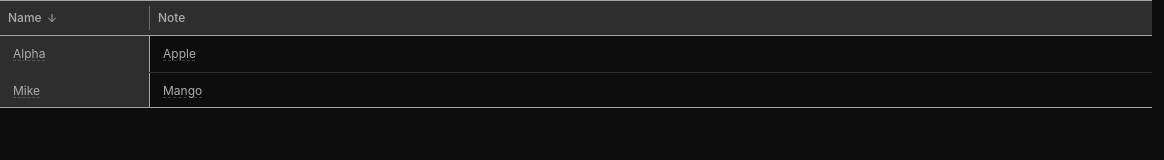
Test case: DataGrid focus after commit resort › tabs to the next cell after editing a sorted column that moves the row
The width and height of the screenshot is (1164, 160).
Later steps or results of the test are not shown.
Press the mouse on the 1st field at (75, 54), box [8,40,142,68]
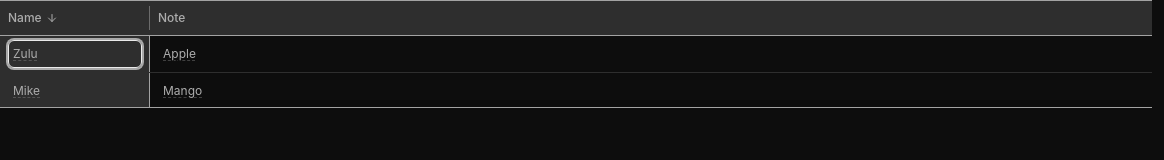
Expected: the 1st field has attribute data-grid-editing="true", [8,40,142,68]
